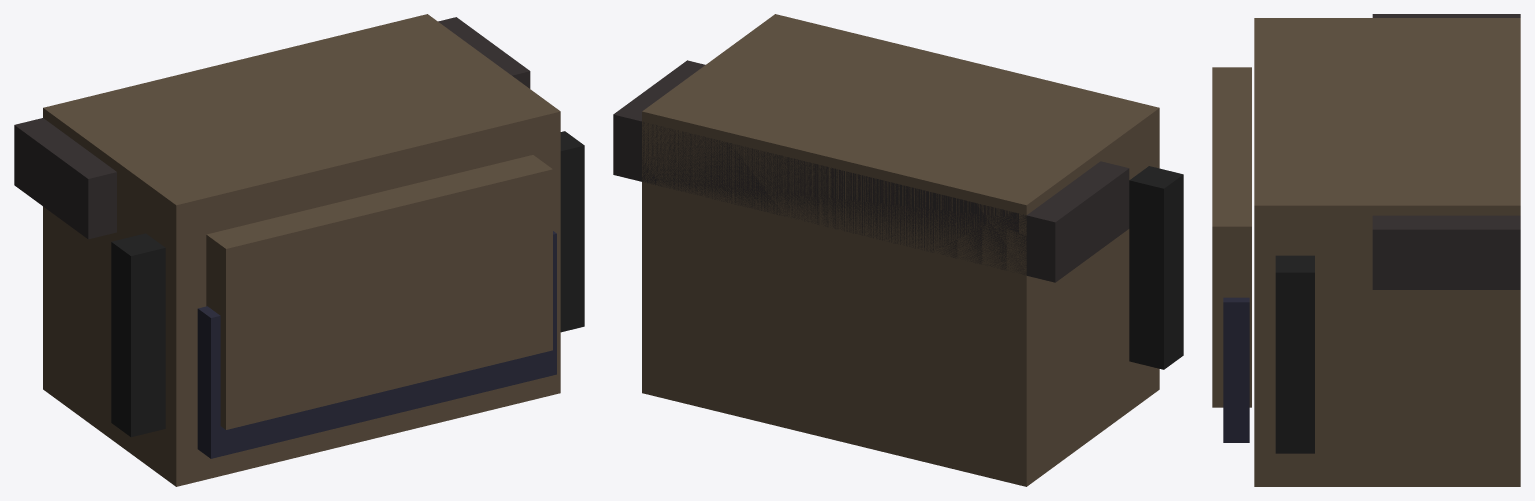
File: body_iron.obj
3 views of the same model, side by side, from view 1: azimuth 30°, elevation 25°; view 2: azimuth 150°, elevation 25°; view 3: azimuth 270°, elevation 25° (orthographic).
Bounding box in the file's own units: 1.59 × 0.945 × 0.9375.
